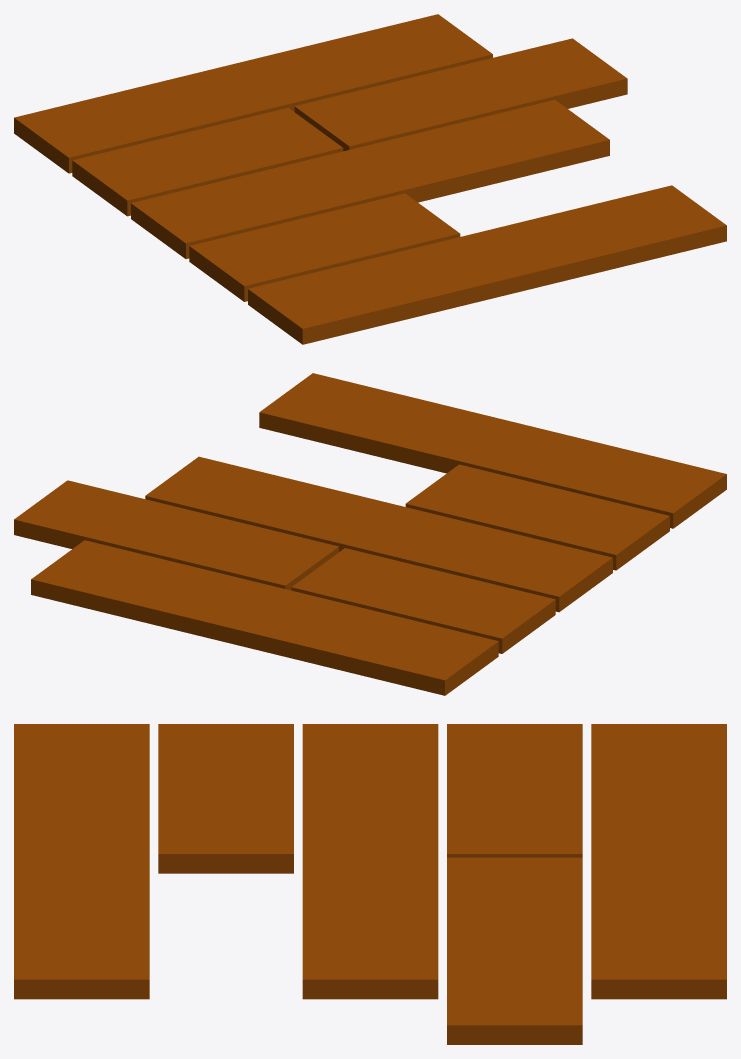
Rendered from RPG_Tiles_Square_Wooden_Boards_11.FBX.
3 renders of one model, top to bottom at view 1: azimuth 30°, elevation 25°; view 2: azimuth 150°, elevation 25°; view 3: azimuth 270°, elevation 25°, orthographic. The views are drawn at different scales.
Parts seen in each view (by area): view 1: RPG_Tiles_Square_Wooden_Boards_11; view 2: RPG_Tiles_Square_Wooden_Boards_11; view 3: RPG_Tiles_Square_Wooden_Boards_11.
Part boxes in pixels (x1=…): RPG_Tiles_Square_Wooden_Boards_11: x1=14, y1=14, x2=726, y2=344; RPG_Tiles_Square_Wooden_Boards_11: x1=14, y1=373, x2=726, y2=695; RPG_Tiles_Square_Wooden_Boards_11: x1=14, y1=724, x2=726, y2=1044.
Bounding box in the file's own units: 2964 × 90 × 2964.
